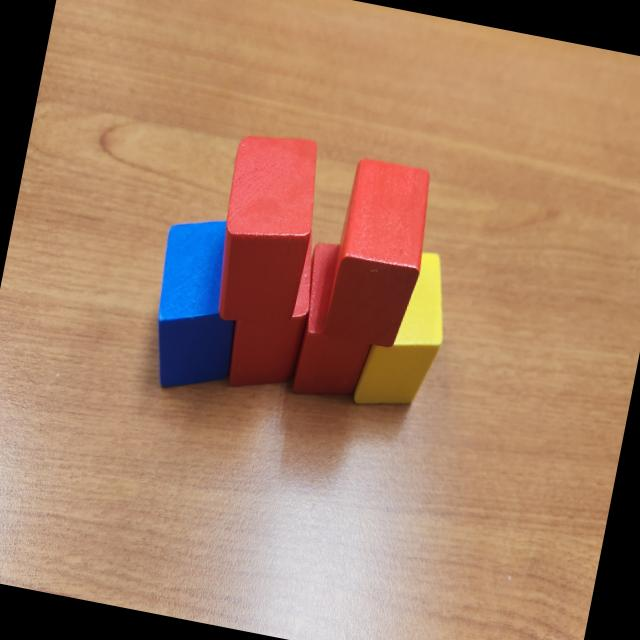blue: (140, 208, 263, 400)
red: (204, 125, 328, 332), (322, 155, 439, 351), (223, 218, 325, 399), (286, 240, 389, 407)
yellow: (346, 240, 460, 421)
